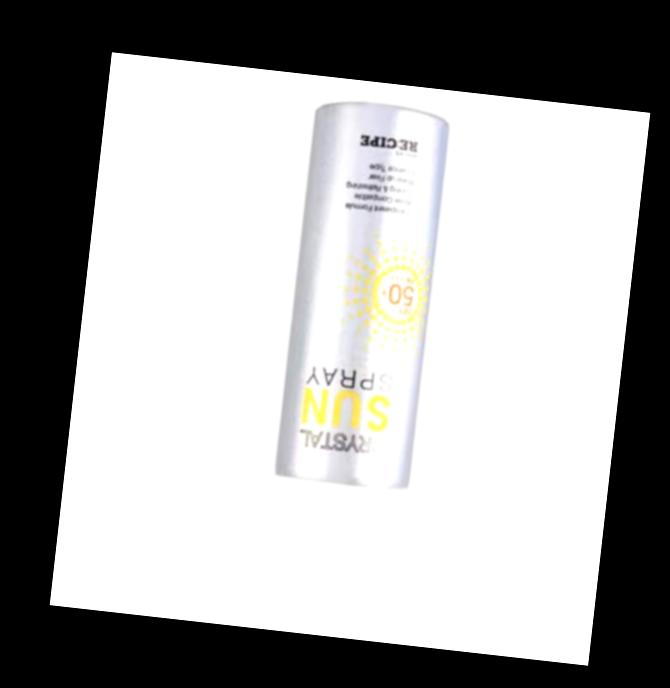cosmetic: (254, 97, 449, 617)
